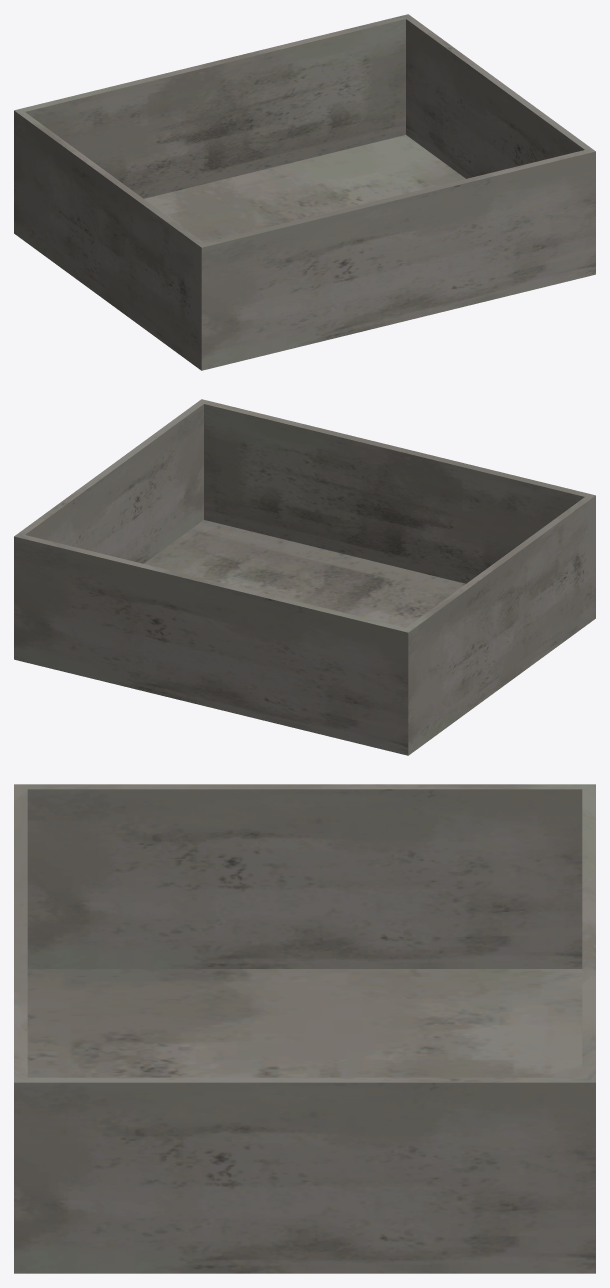
Rendered from OBJ_CandyBoxC_Prefab.glb.
3 views of the same model, one above another, from view 1: azimuth 30°, elevation 25°; view 2: azimuth 150°, elevation 25°; view 3: azimuth 270°, elevation 25° (orthographic). The views are drawn at different scales.
Visible parts, largest first — view 1: OBJ_CandyBoxC_LOD0; view 2: OBJ_CandyBoxC_LOD0; view 3: OBJ_CandyBoxC_LOD0.
Boxes of the visible parts, bbox=[...] form: OBJ_CandyBoxC_LOD0: bbox=[14, 14, 595, 370]; OBJ_CandyBoxC_LOD0: bbox=[14, 399, 595, 755]; OBJ_CandyBoxC_LOD0: bbox=[14, 784, 595, 1273].
Bounding box in the file's own units: 0.316 × 0.0943 × 0.2604.
1 material, 1 textured.
